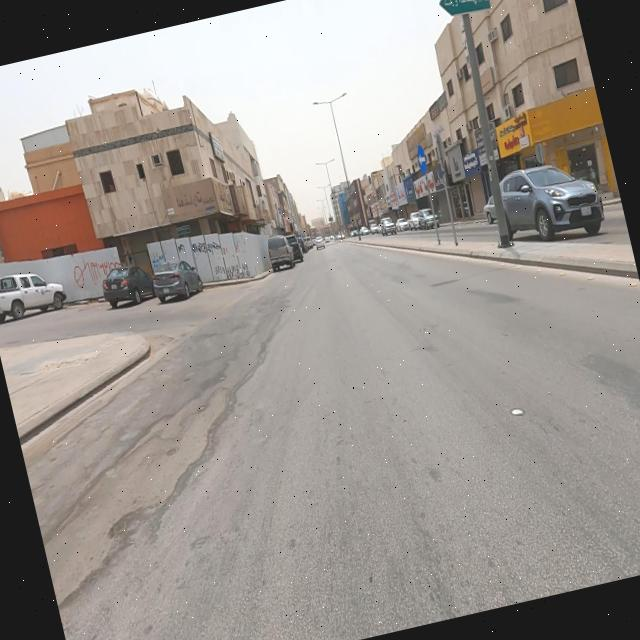Graffiti: (72, 256, 121, 279), (213, 258, 252, 286), (192, 238, 223, 259), (74, 272, 105, 291), (152, 255, 168, 270), (222, 246, 232, 258), (177, 244, 187, 255)
